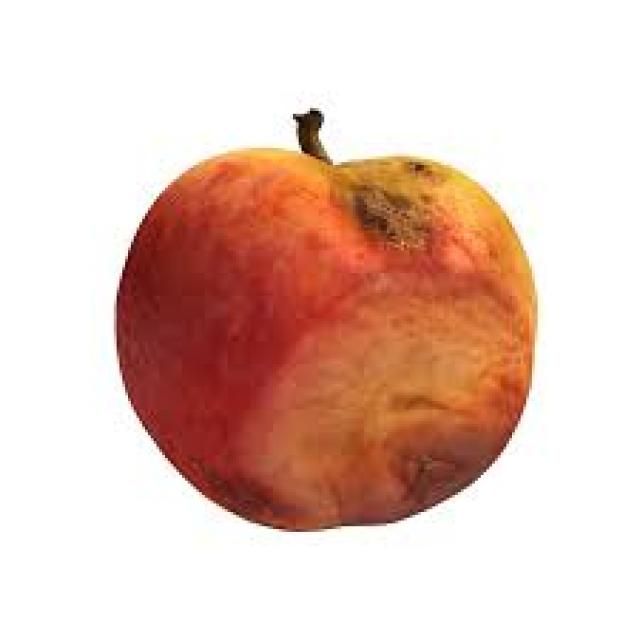food_waste: (117, 145, 532, 526)
